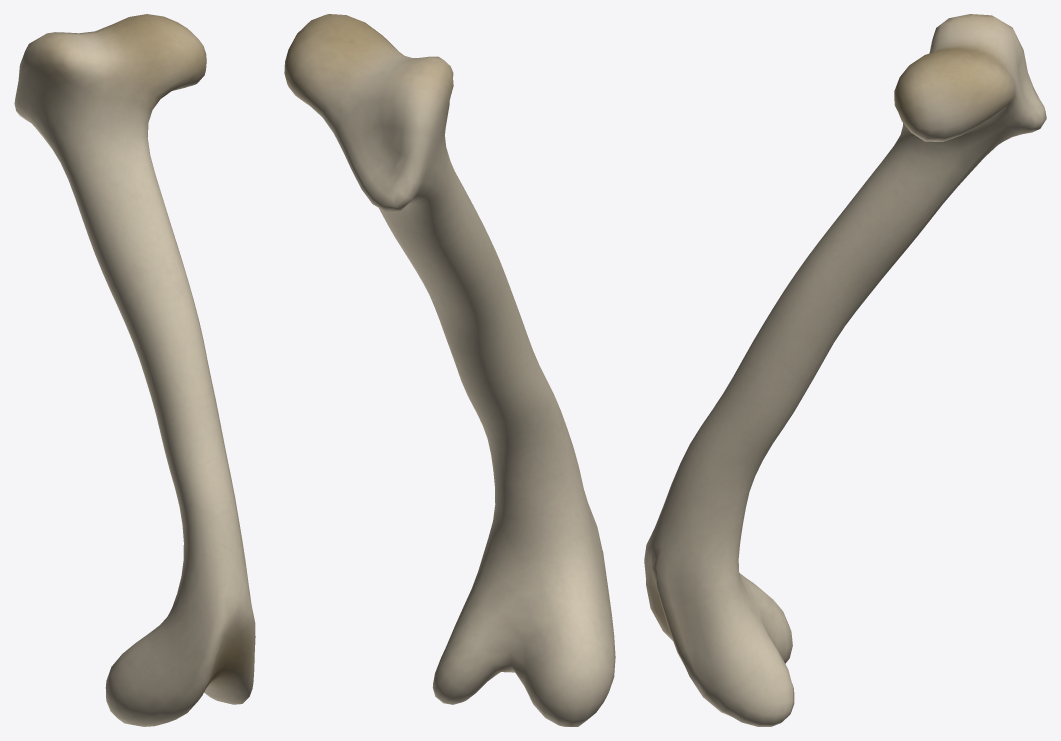
The model's file is R Femur.fbx.
The picture shows the model from 3 angles, left to right: view 1: azimuth 30°, elevation 25°; view 2: azimuth 150°, elevation 25°; view 3: azimuth 270°, elevation 25°; orthographic projection. The views are drawn at different scales.
Visible parts, largest first — view 1: R Femur; view 2: R Femur; view 3: R Femur.
Boxes of the visible parts, box(x1,y1,x2,y2) form: R Femur: box(14, 14, 255, 726); R Femur: box(284, 14, 615, 726); R Femur: box(644, 14, 1046, 726).
Size of the model in its own units: 8.33 by 28.42 by 15.34.
